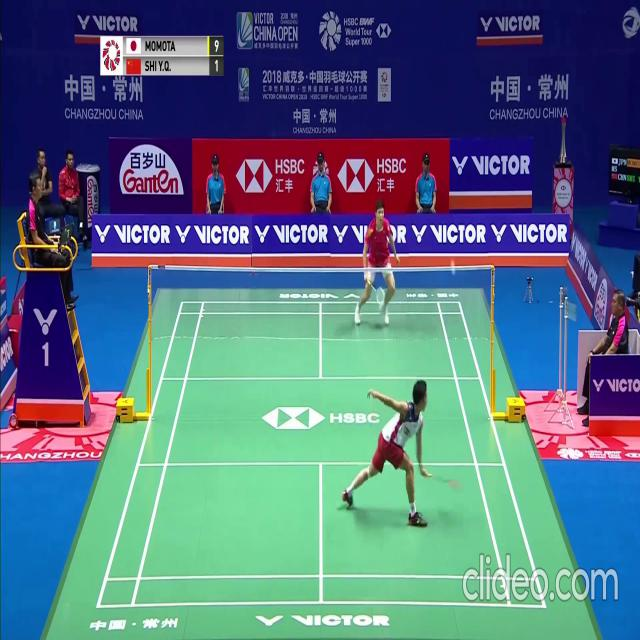Shuttlecock: (450, 259, 455, 266)
